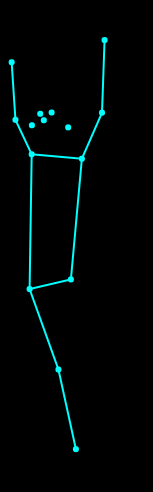tree: (1, 32, 126, 458)
